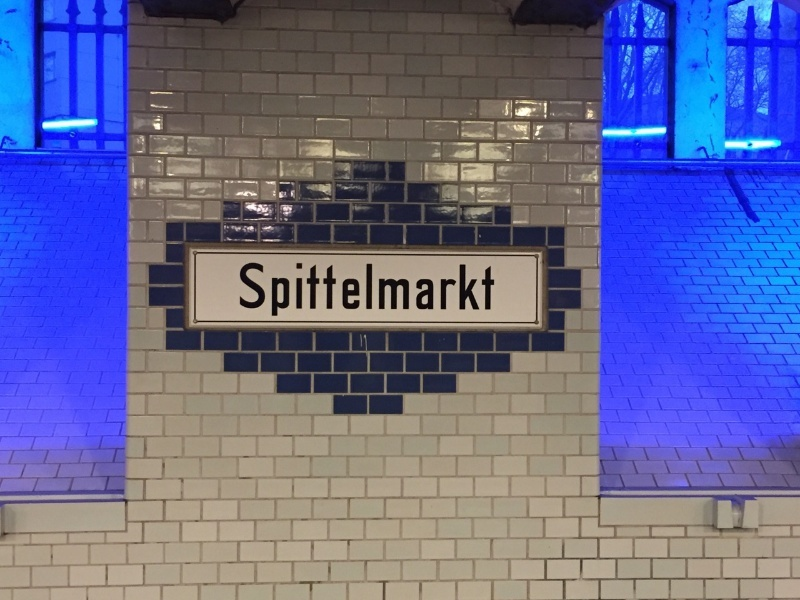text: (241, 262, 256, 319), (257, 262, 272, 319), (273, 262, 288, 319), (289, 262, 304, 319), (305, 262, 320, 319), (321, 262, 336, 319), (337, 262, 352, 319), (353, 262, 368, 319), (369, 262, 384, 319), (385, 262, 400, 319), (401, 262, 416, 319), (417, 262, 432, 319), (433, 262, 448, 319), (449, 262, 464, 319), (465, 262, 480, 319), (481, 262, 495, 319)
